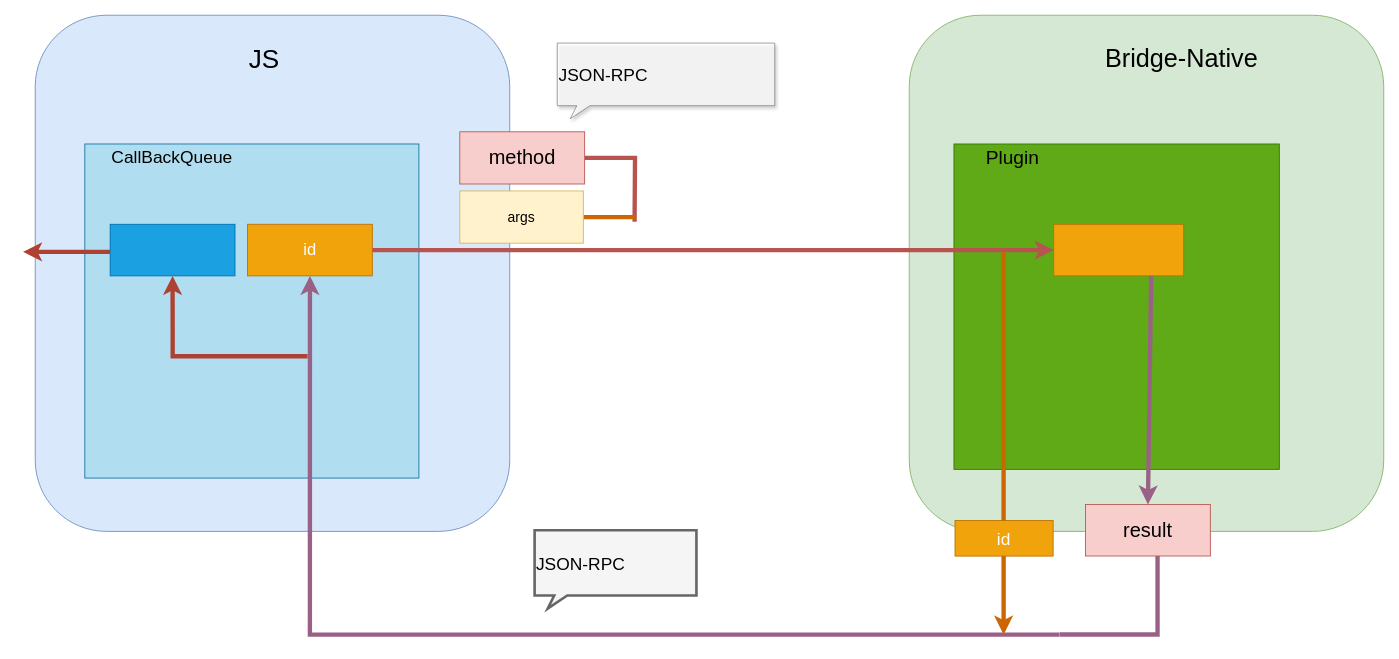
Some shapes in this 1399 by 659 pixel diagram are drawn without their labels. The centre of each missing label's shape, as x and y in pixels:
"CallBack" belongs at (172,249).
"ClassName" belongs at (1118,249).
